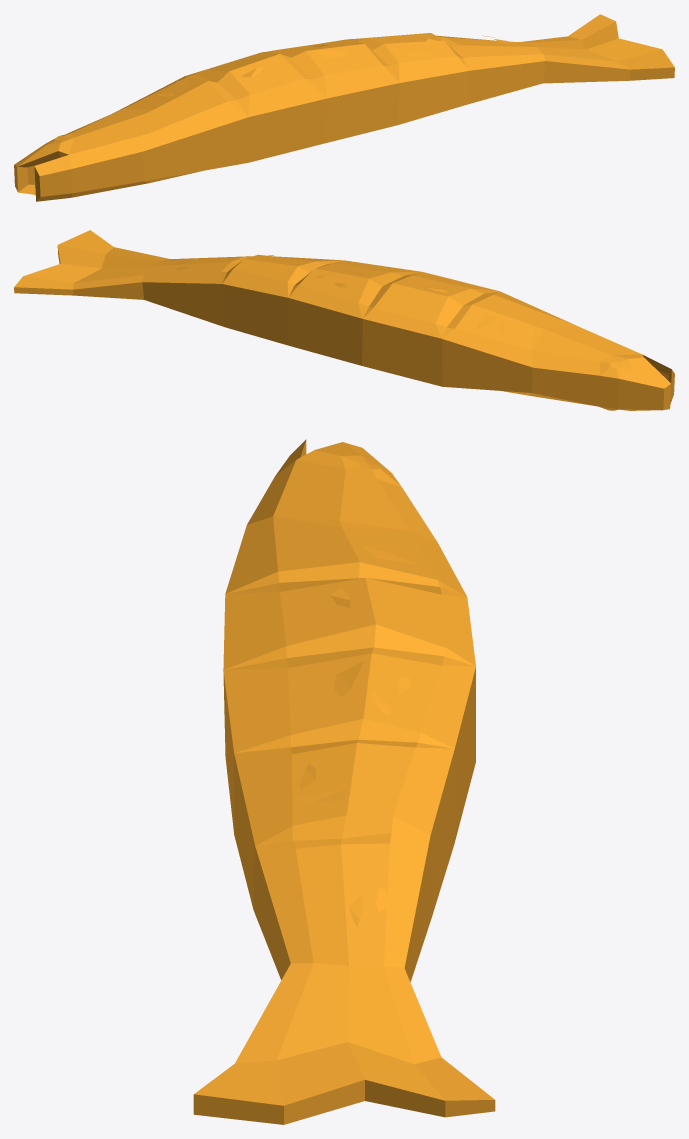
File: SM_Fish_Grilled_Fantasy.fbx
3 views of the same model, one above another, from view 1: azimuth 30°, elevation 25°; view 2: azimuth 150°, elevation 25°; view 3: azimuth 270°, elevation 25° (orthographic). The views are drawn at different scales.
Visible parts, largest first — view 1: fish-grilled-fantasy; view 2: fish-grilled-fantasy; view 3: fish-grilled-fantasy.
Boxes of the visible parts, bbox=[...] form: fish-grilled-fantasy: bbox=[14, 14, 674, 201]; fish-grilled-fantasy: bbox=[14, 230, 674, 410]; fish-grilled-fantasy: bbox=[193, 439, 495, 1124].
Size of the model in its own units: 0.7185 by 0.0863 by 0.1493.
